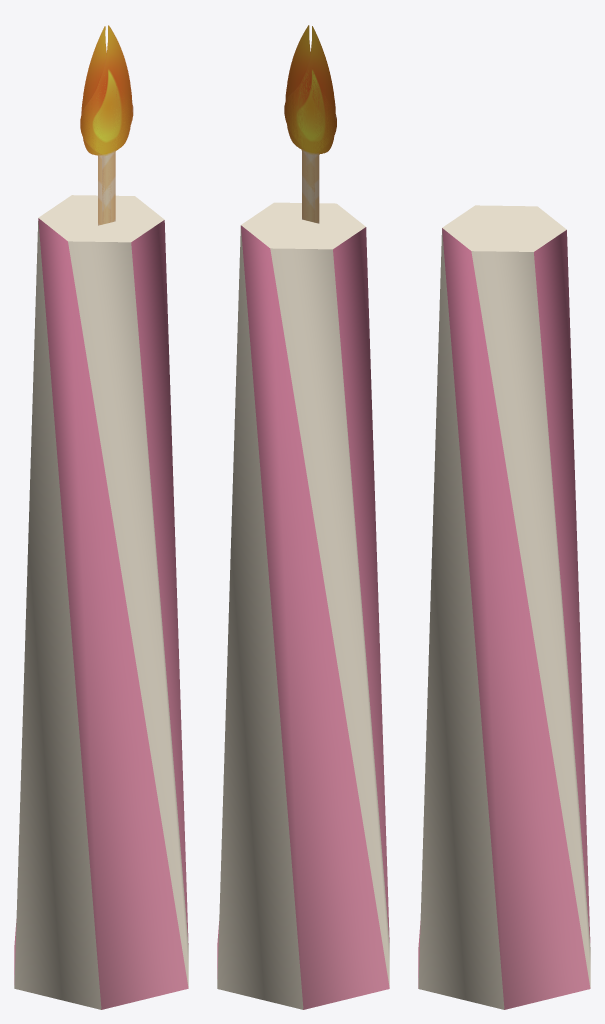
Rendered from Candle_B_05.FBX.
3 views of the same model, side by side, from view 1: azimuth 30°, elevation 25°; view 2: azimuth 150°, elevation 25°; view 3: azimuth 270°, elevation 25° (orthographic).
Visible parts, largest first — view 1: Candle; view 2: Candle; view 3: Candle.
Boxes of the visible parts, box(x1,y1,x2,y2) form: Candle: box(14, 25, 188, 1009); Candle: box(217, 25, 389, 1009); Candle: box(418, 205, 590, 1009).
Size of the model in its own units: 7.85 by 40.96 by 6.8.
